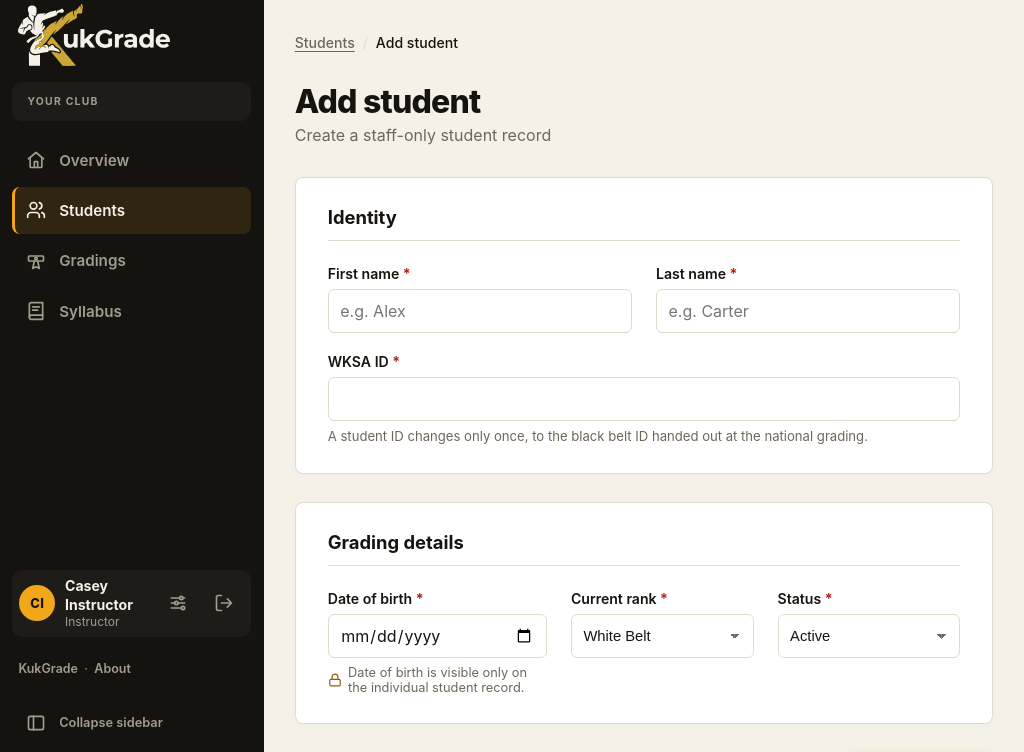
Test: Add student screen (/students/new) › says what the server said when it has no field to put it against
Expected: the heading "Add student" is shown, [295, 82, 480, 121]
Type "Alex" into the field labelled "First name *" at (480, 311), box [328, 289, 632, 333]
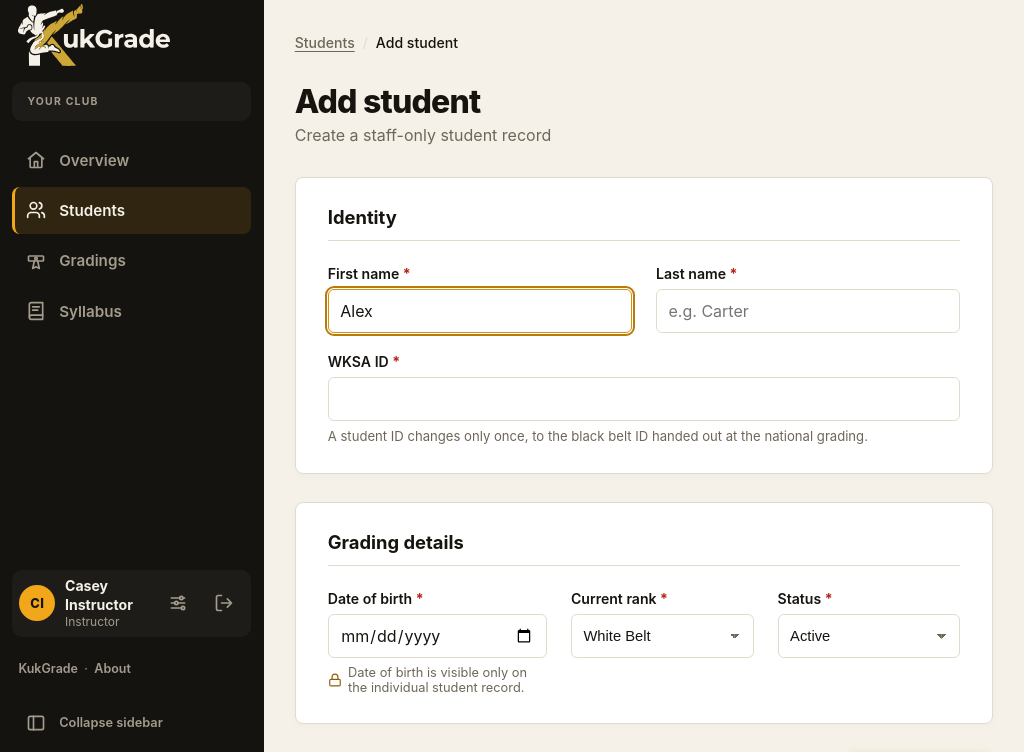
Type "Carter" into the field labelled "Last name *" at (808, 311), box [656, 289, 960, 333]
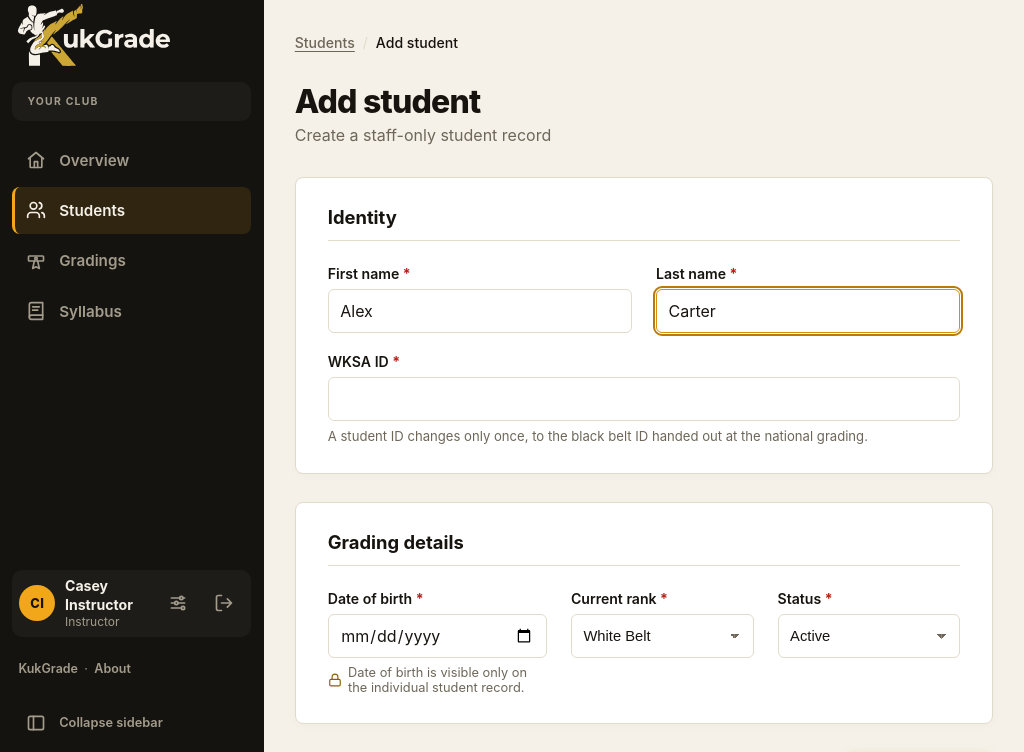
Type "UK-1001" into the field labelled "WKSA ID *" at (644, 399), box [328, 377, 960, 421]
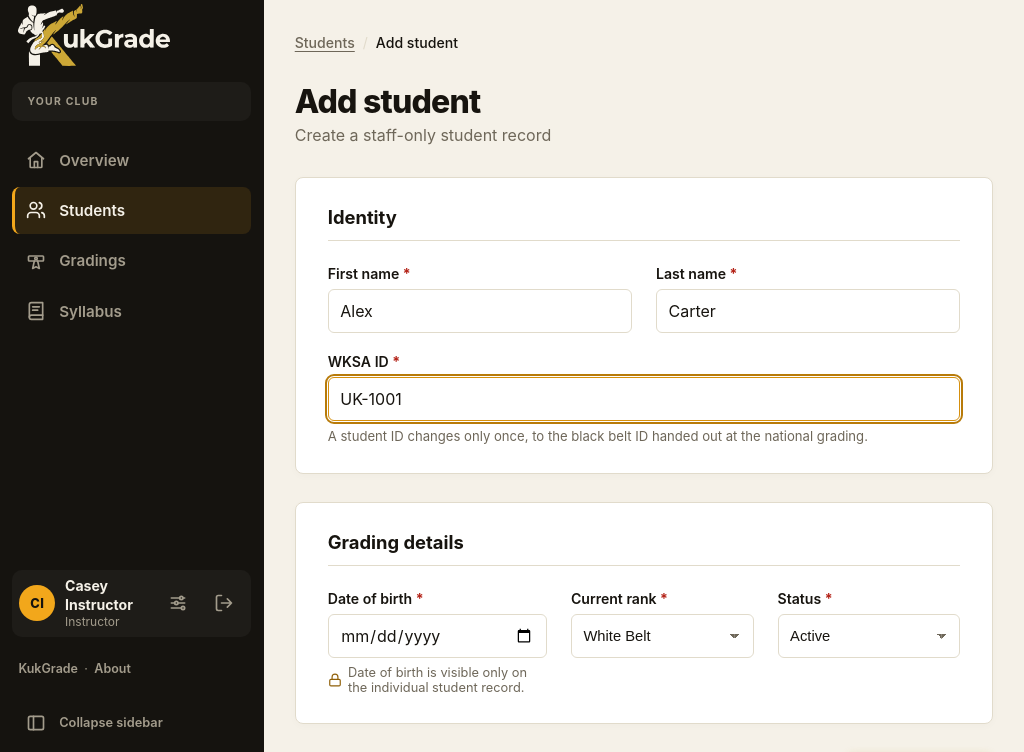
Type "2005-04-12" into the date field labelled "Date of birth *" at (437, 636), box [328, 614, 547, 658]
(page scrolled)
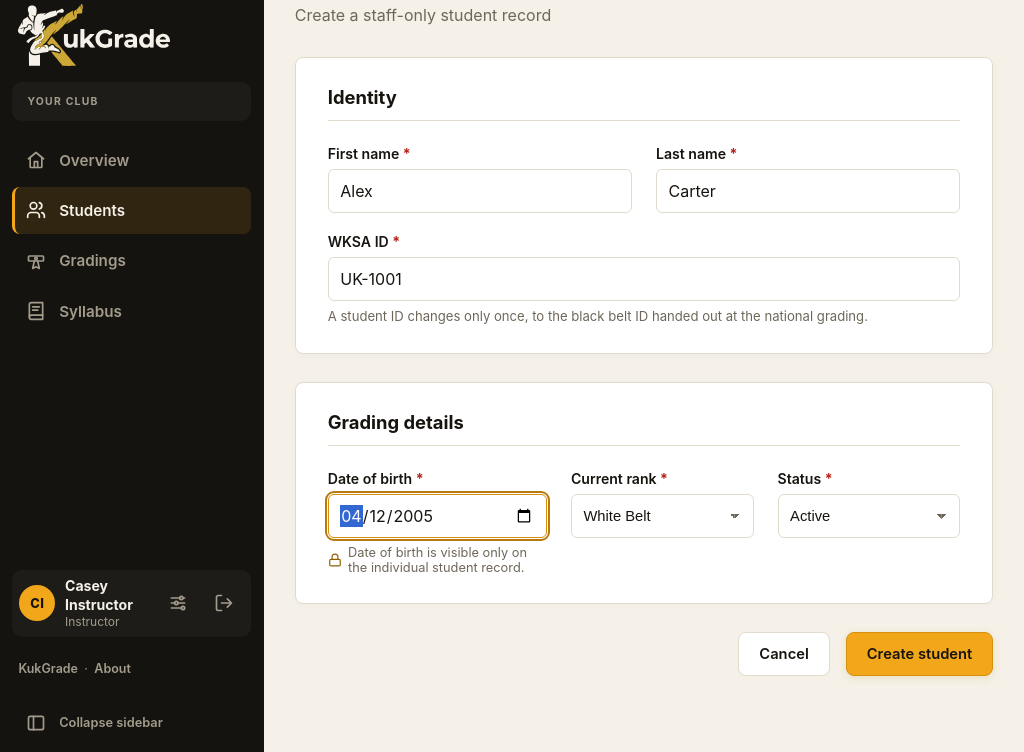
Click the button "Create student" at (920, 654), box [846, 632, 993, 676]
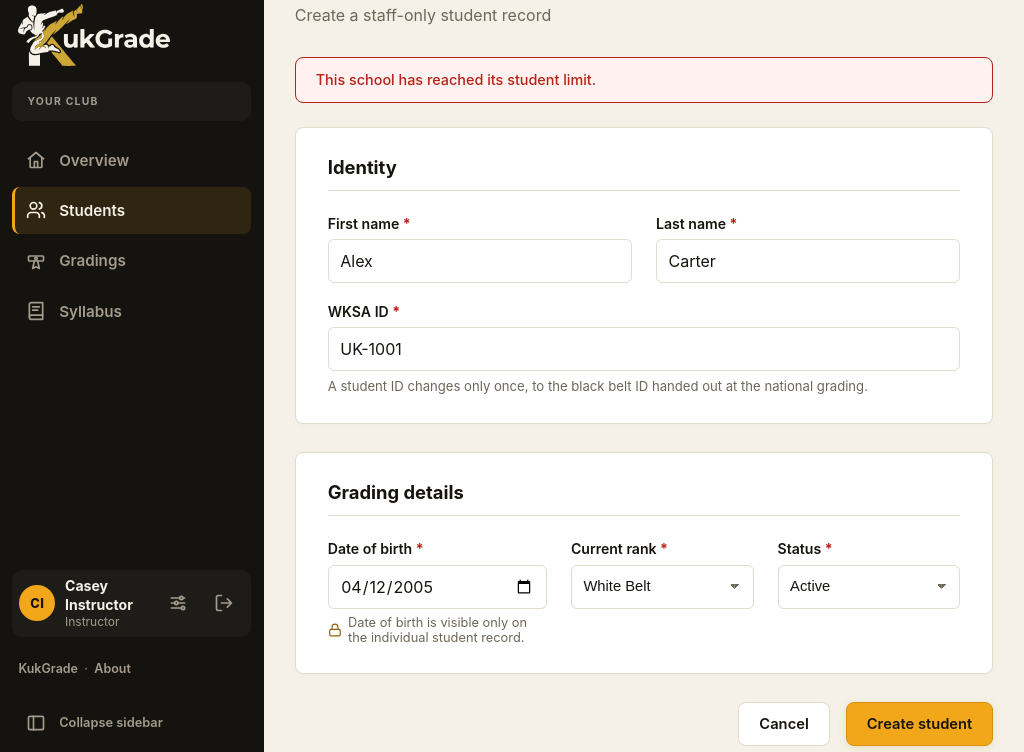
Result: the text "This school has reached its student limit." is shown at [316, 71, 596, 88]
